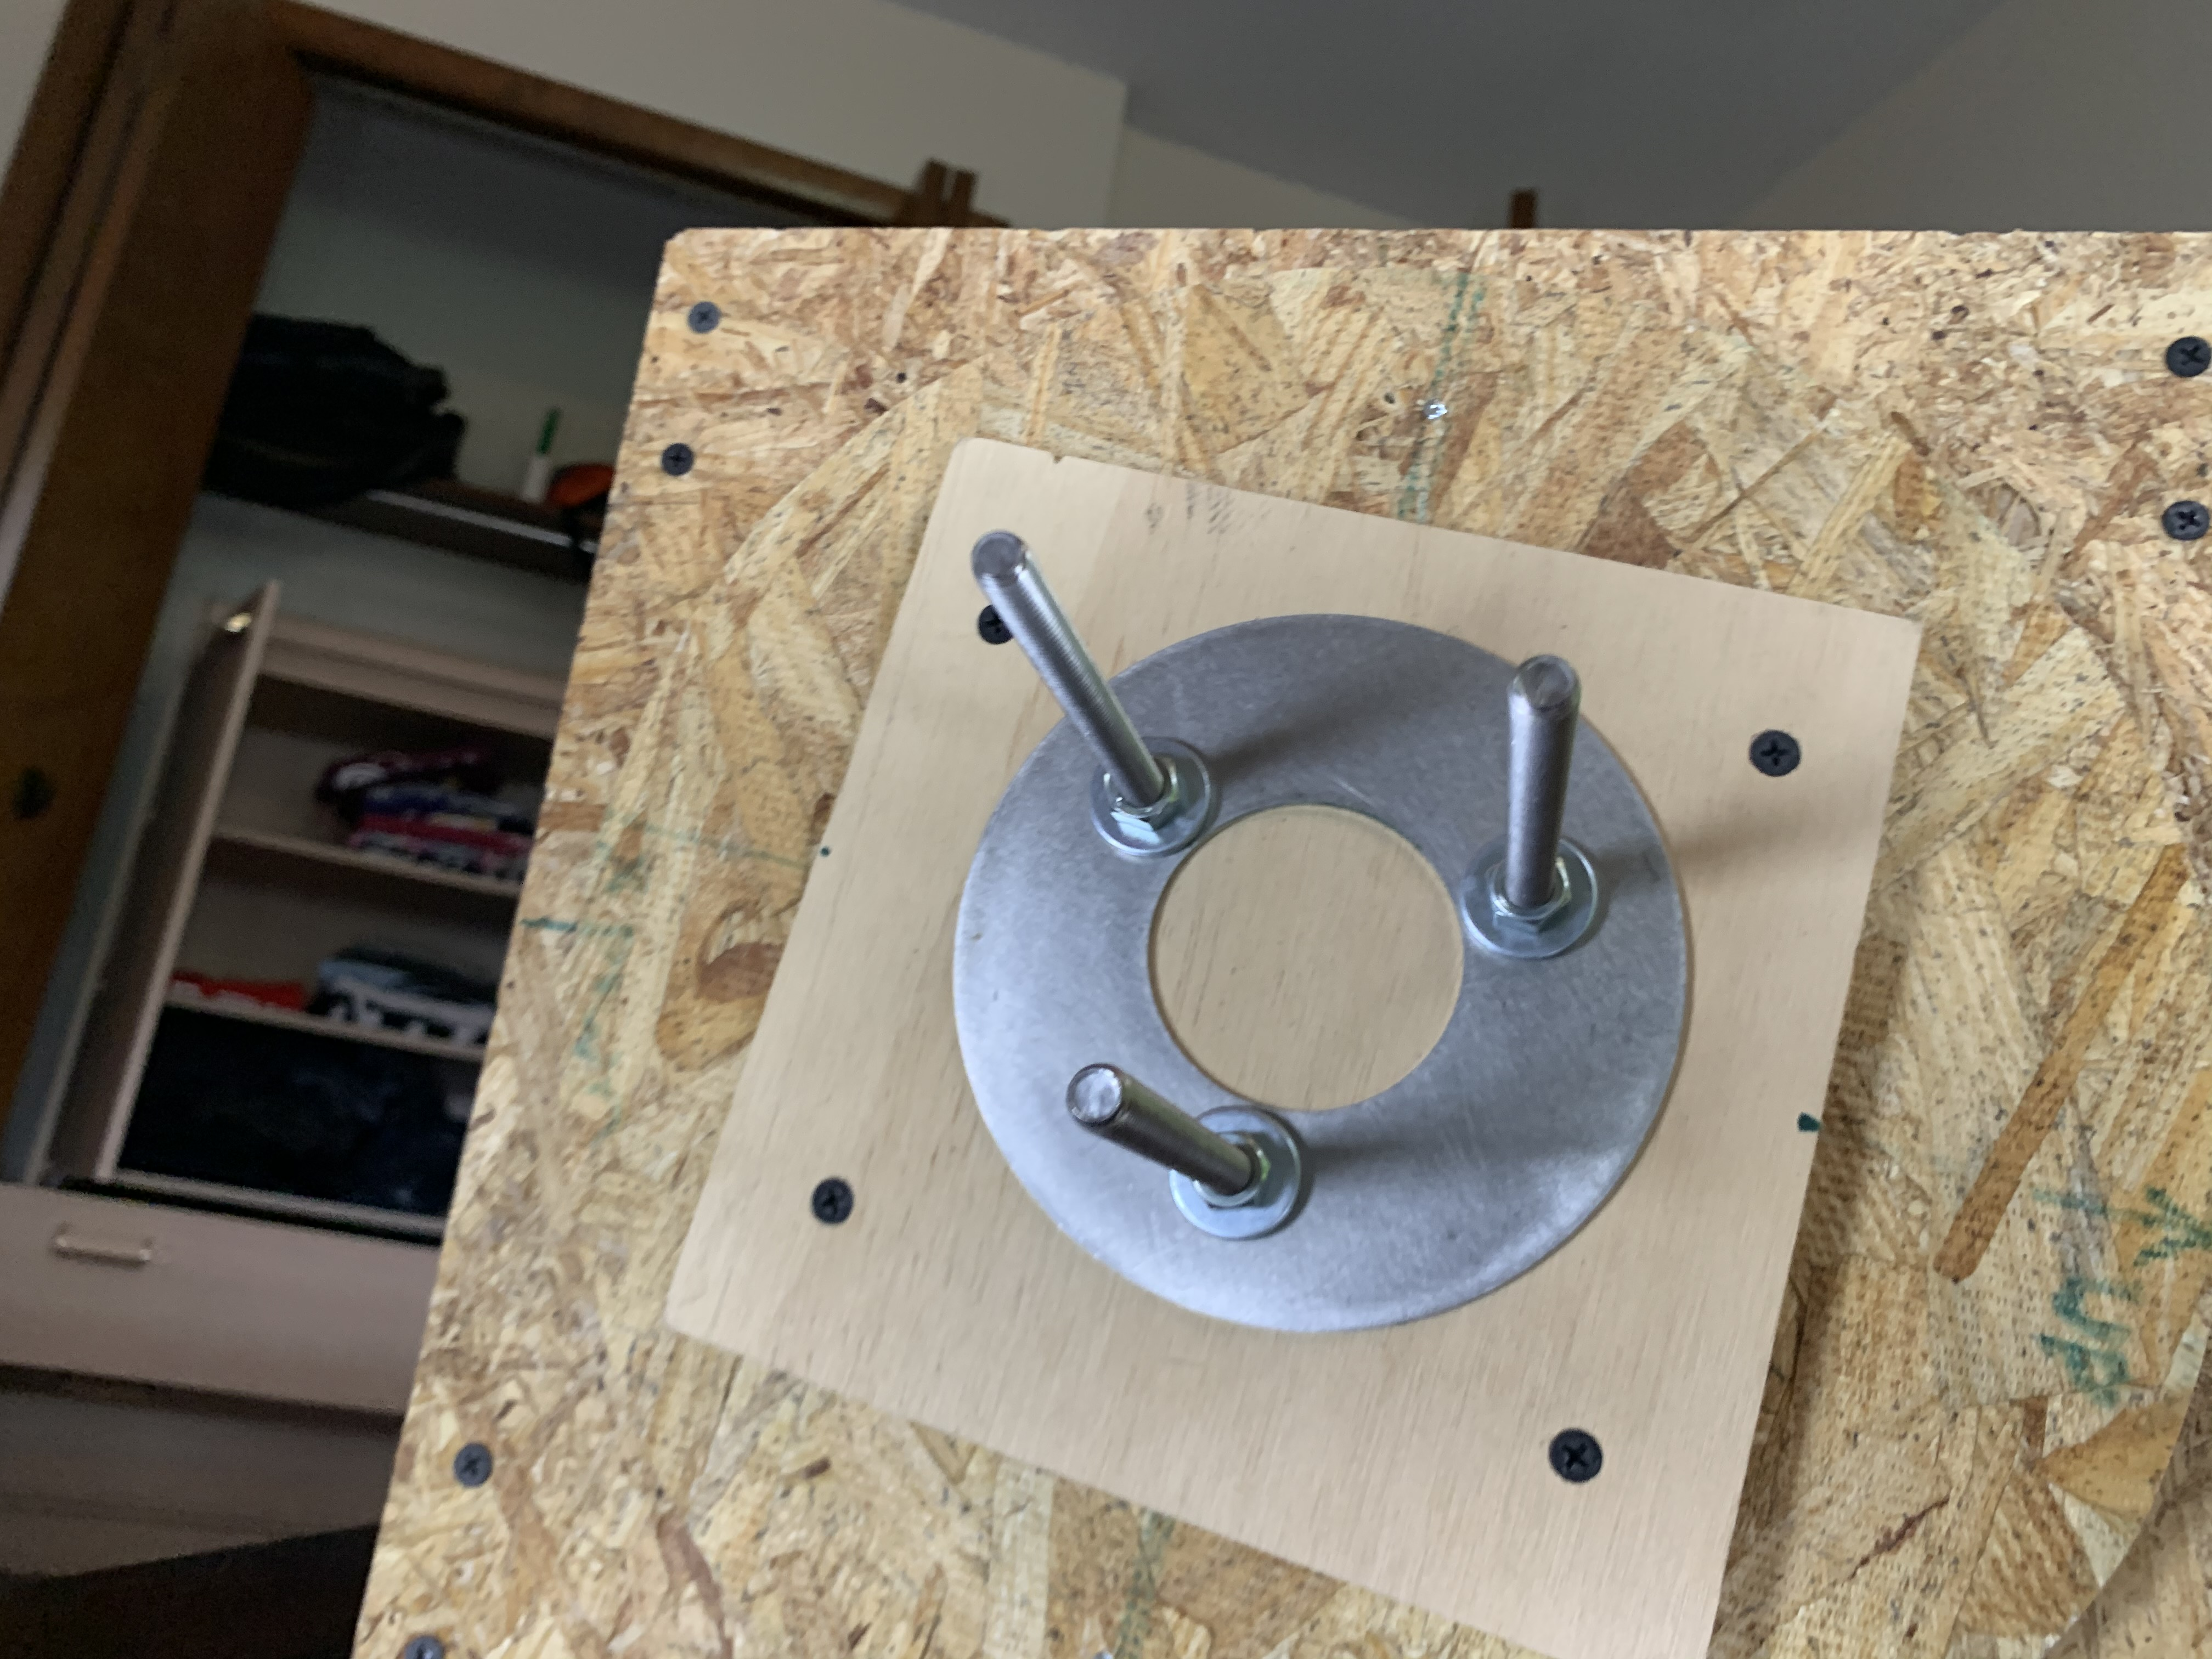bolt: (1453, 833, 1608, 965), (1165, 1107, 1310, 1243), (1085, 734, 1216, 856)
